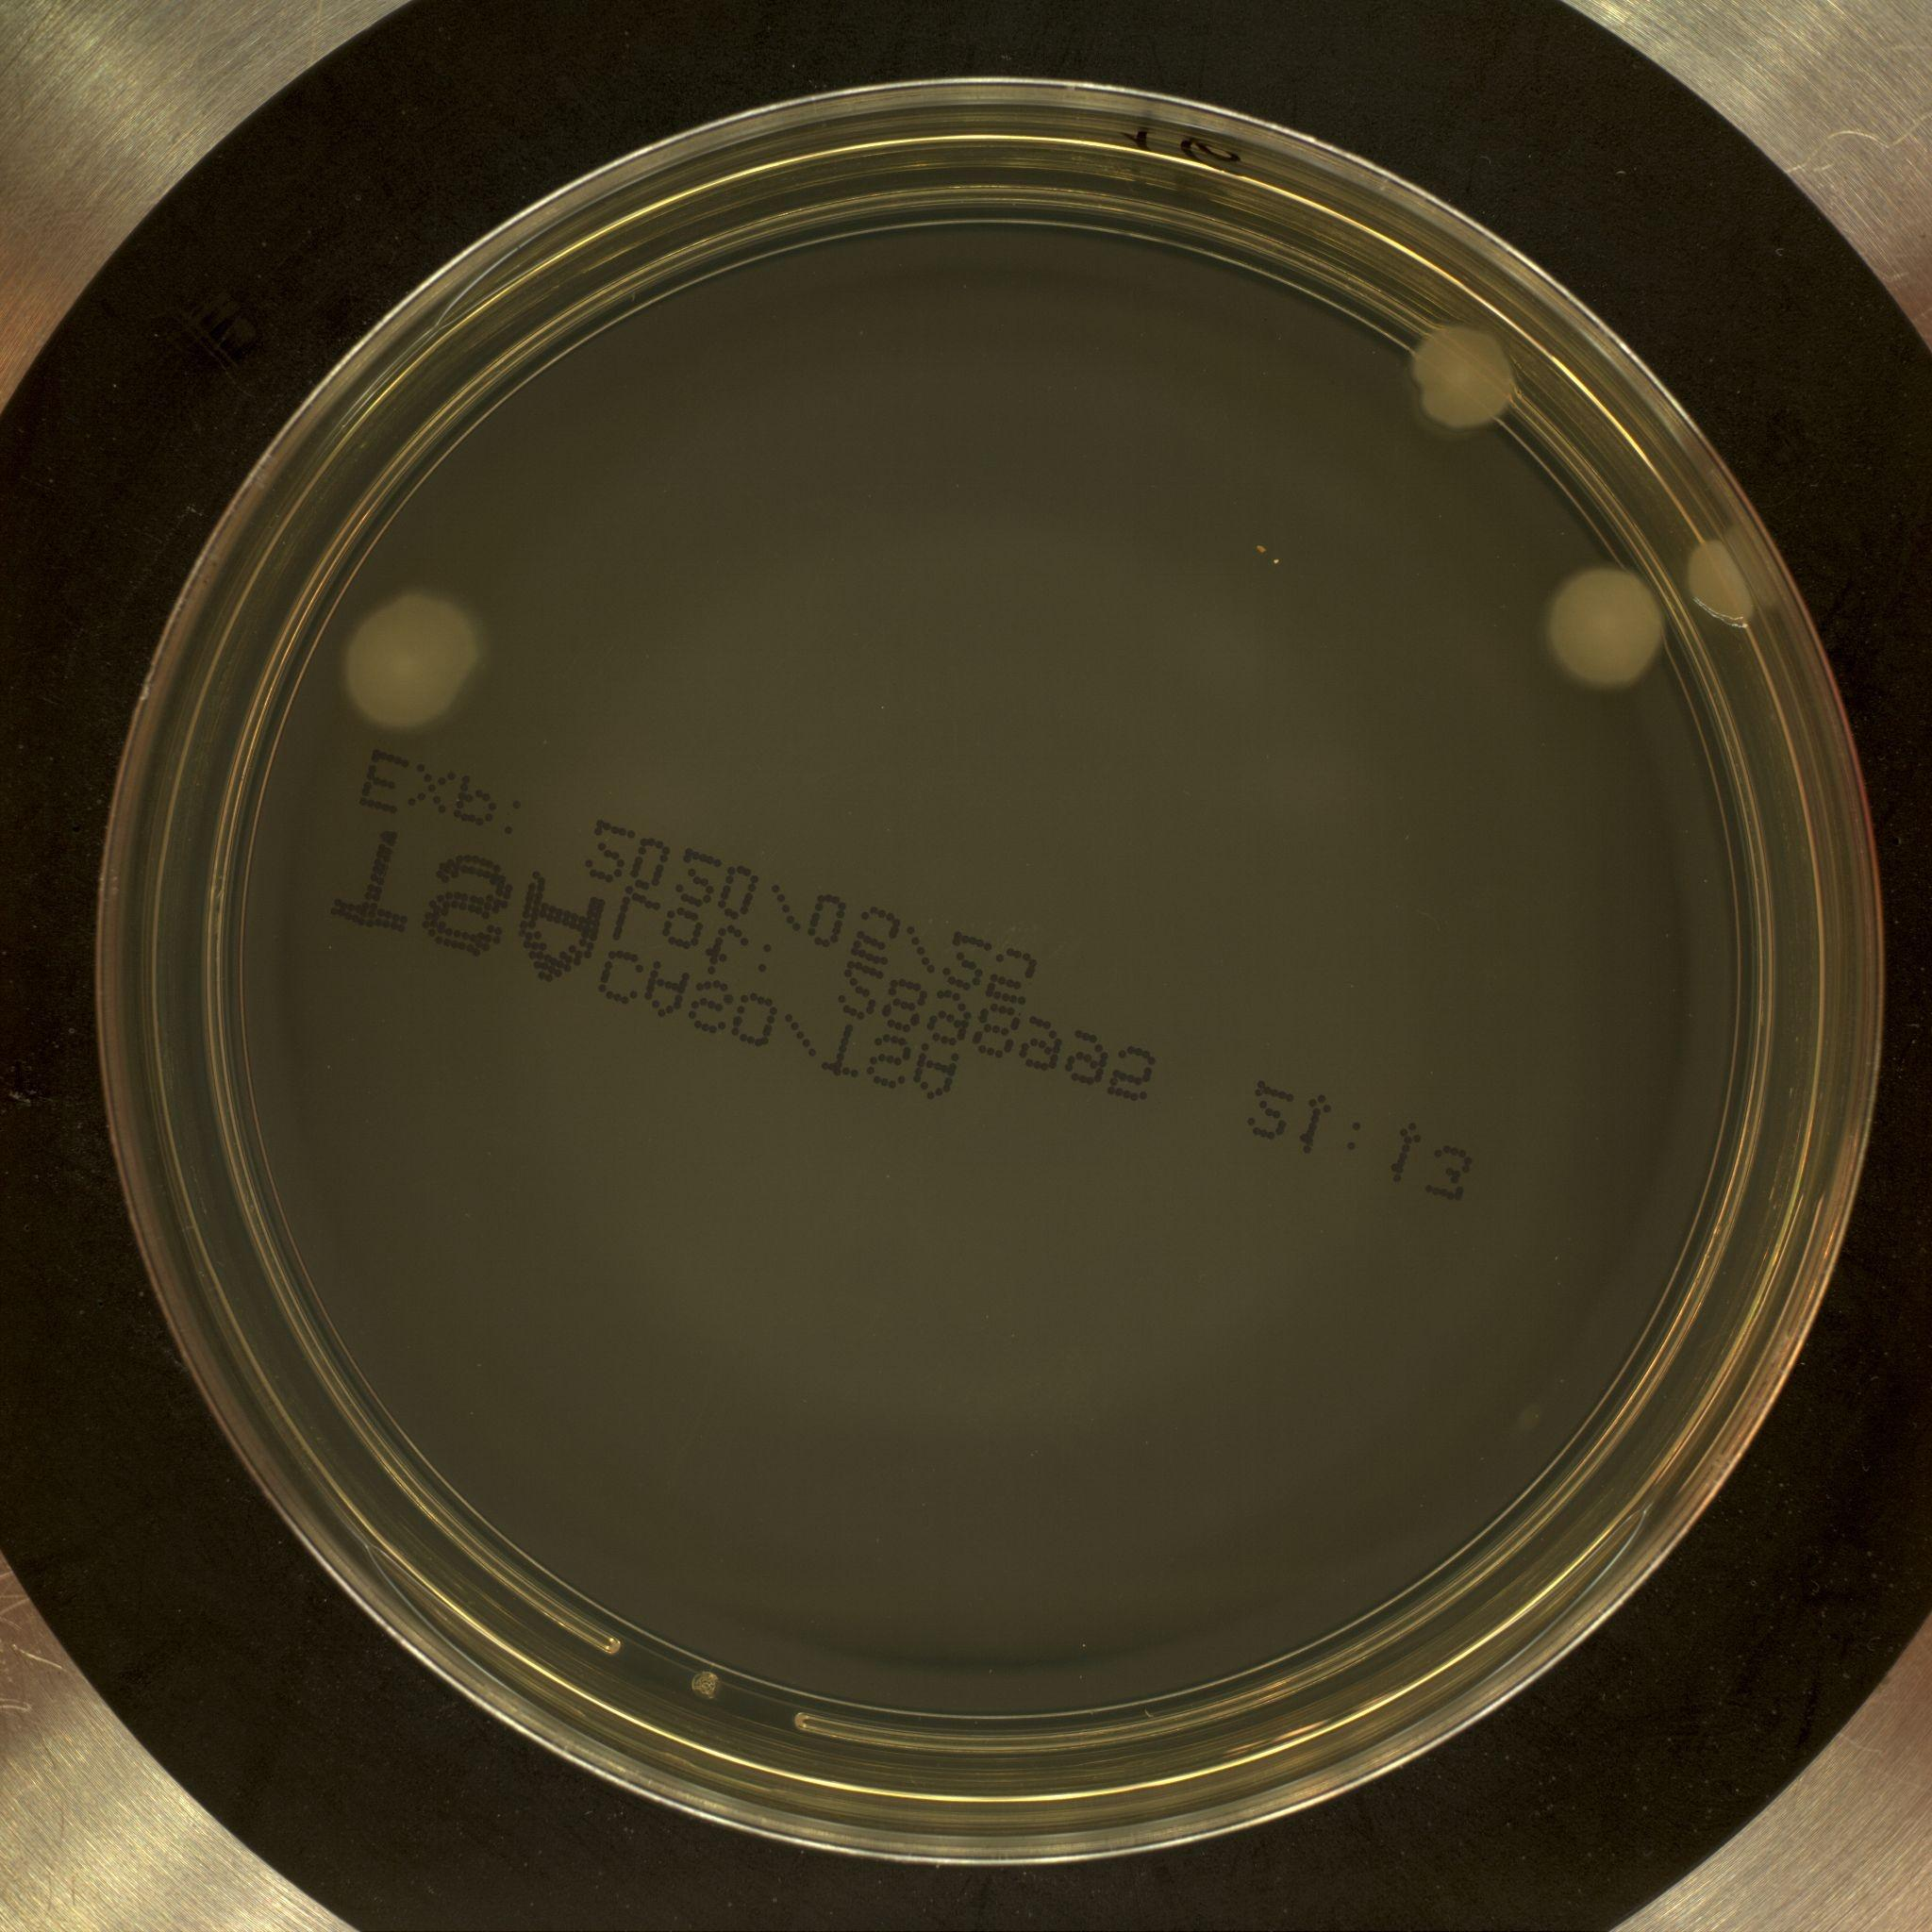e. coli: (336, 580, 497, 736), (1543, 561, 1672, 698), (1407, 316, 1530, 439), (1671, 528, 1775, 646)
